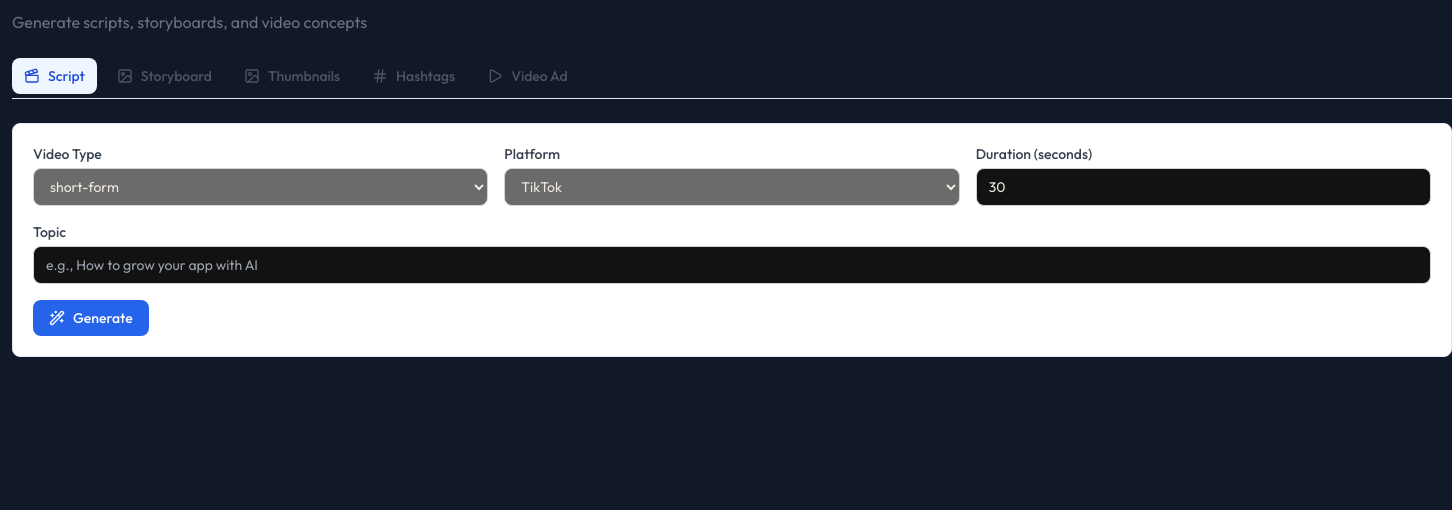
visible studio failures › video provider failure clears stale output and keeps input available to retry
This screenshot has width=1452, height=510.
Type "Keep my video topic" into the field with placeholder "e.g., How to grow your app with AI".
click(732, 265); type("Keep my video topic")  # box [33,246,1431,284]
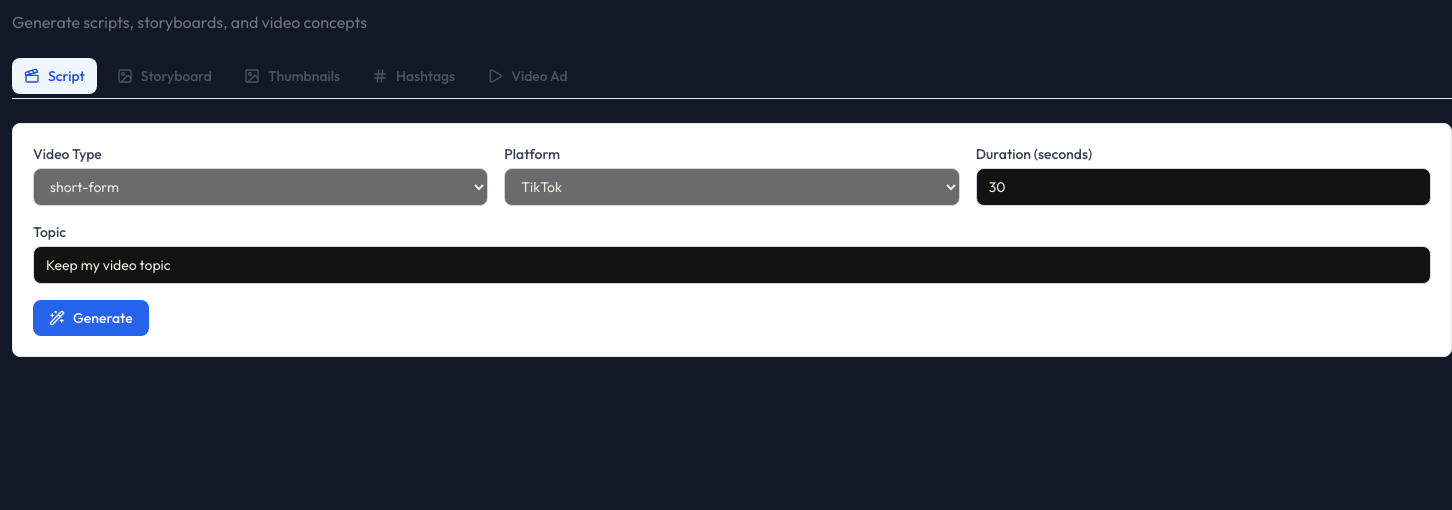
Click the button "Generate".
click(91, 318)  # box [33,300,149,336]
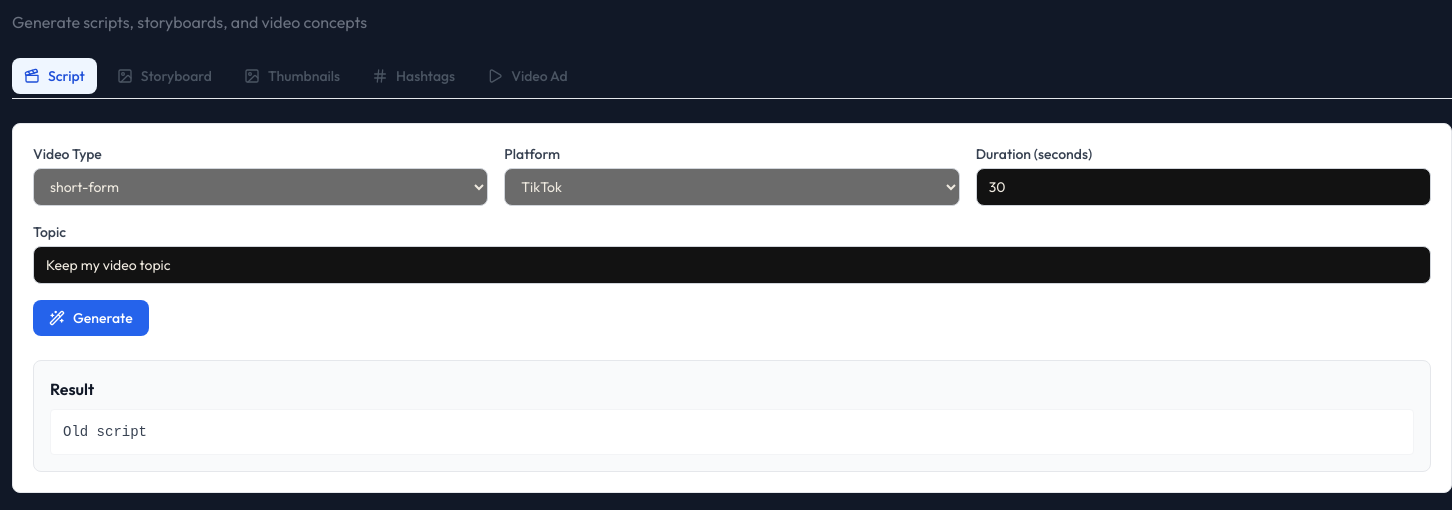
Check: the text "Old script" is shown, box [50,409,1414,455]
Click the button "Generate".
click(91, 318)  # box [33,300,149,336]
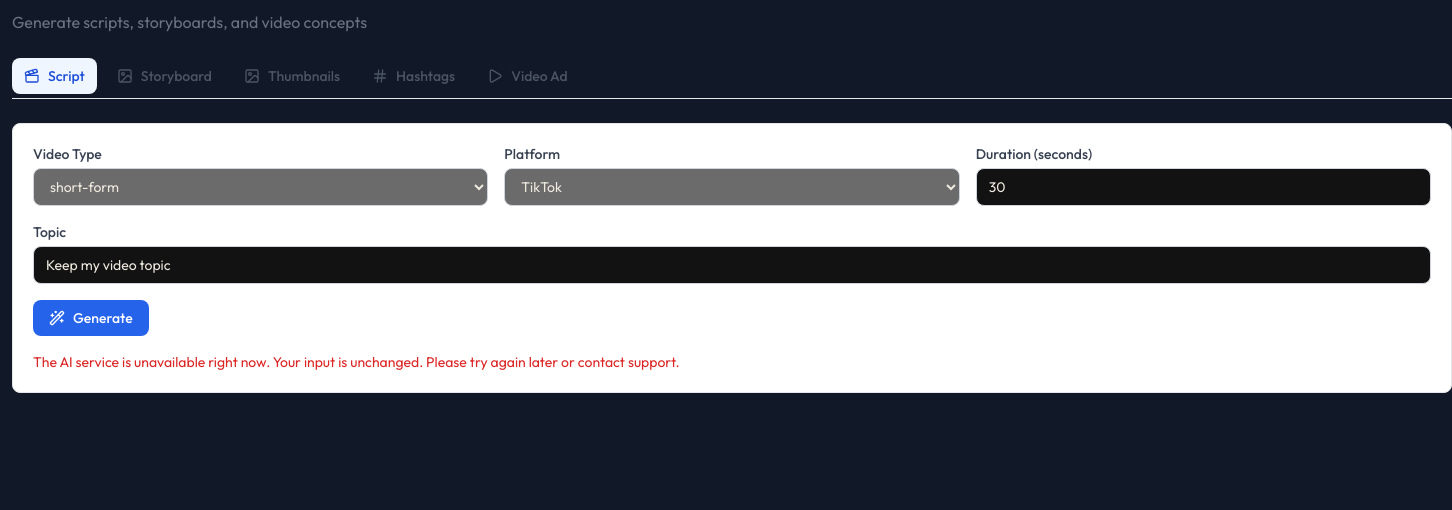
Check: the message shows "unavailable", box [33,353,680,371]
Check: the text "Old script" is gone
